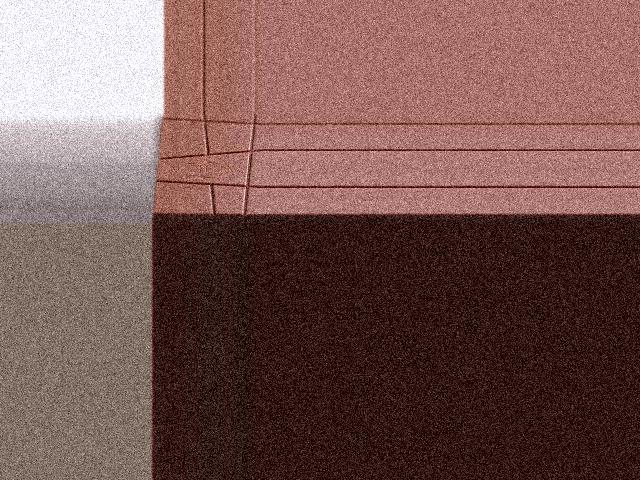chocolate: (150, 113, 262, 219)
